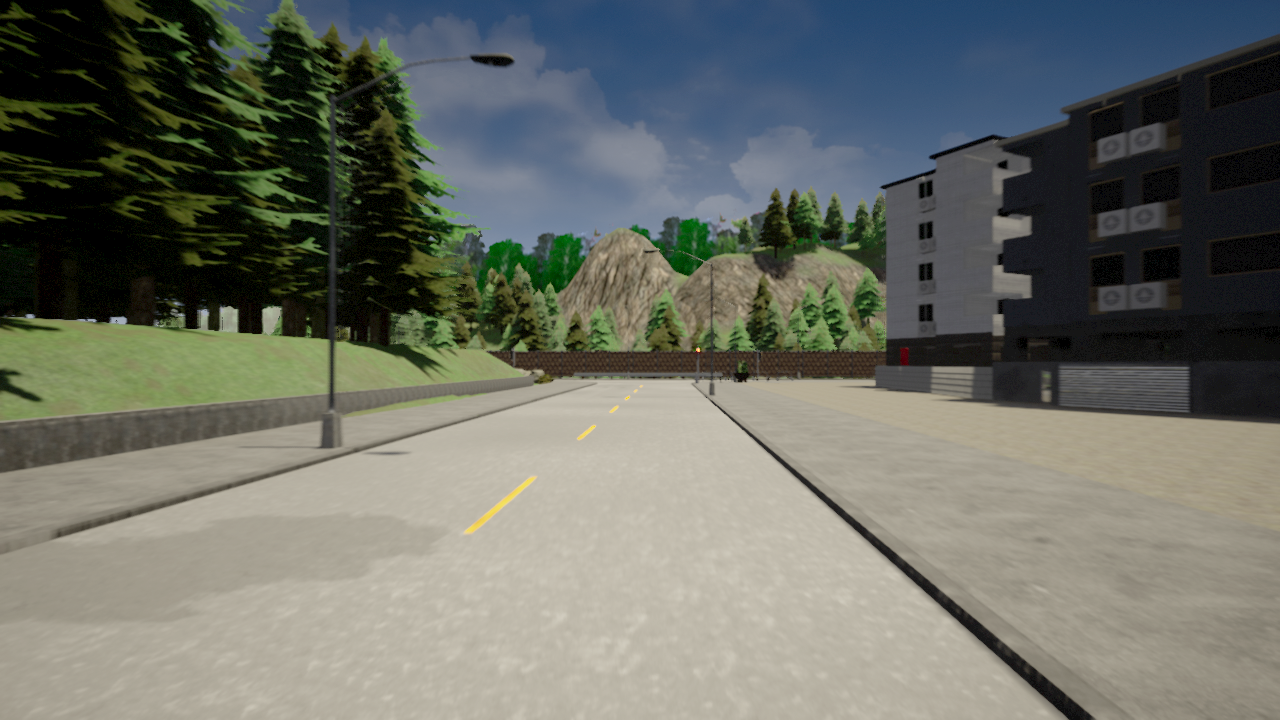red: (695, 347, 701, 361)
